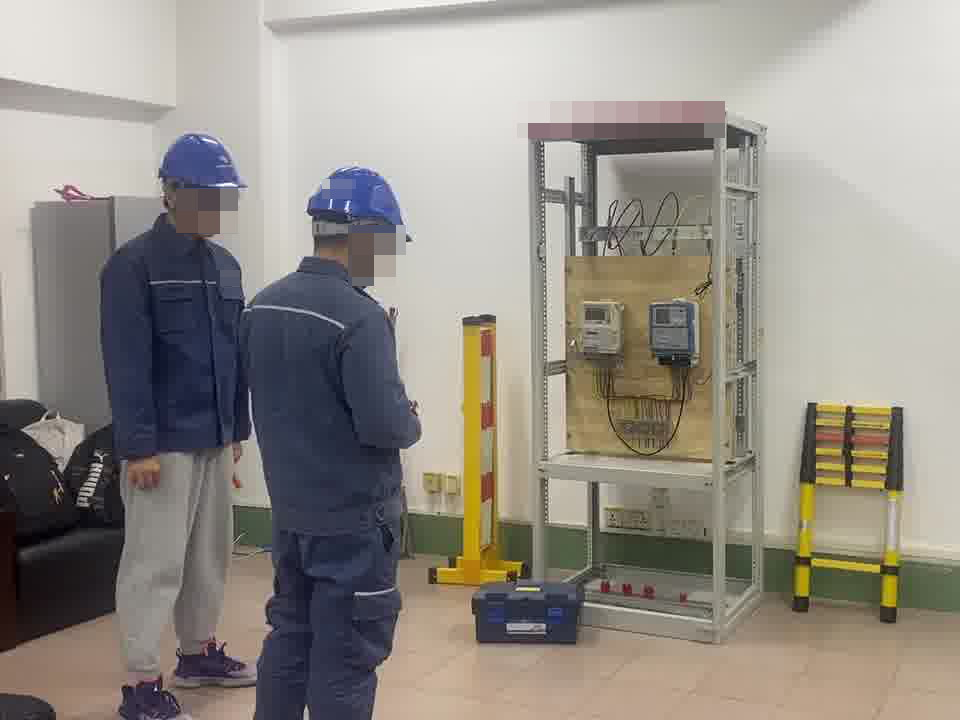downcloth: (113, 439, 238, 688)
downsuit: (248, 525, 407, 720)
halt: (300, 164, 411, 284), (157, 131, 249, 241)
hand: (126, 454, 165, 492)
inear: (352, 220, 387, 280), (159, 179, 191, 224)
person: (240, 159, 430, 720), (95, 126, 258, 720)
upsuit: (243, 269, 423, 521), (98, 234, 241, 461)
